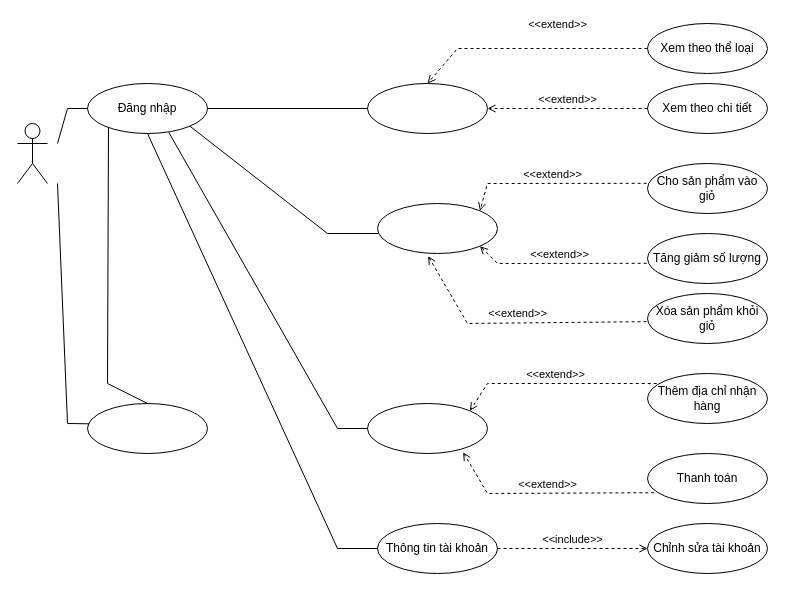
This 785x591 diagram has some shape labels left out. The centre of each missing label's shape, as x and y in pixels:
Thao tác giỏ hàng: (437,228)
User: (32,153)
Xem sản phẩm: (427,108)
Đăng ký: (147,428)
Đặt hàng: (427,428)
